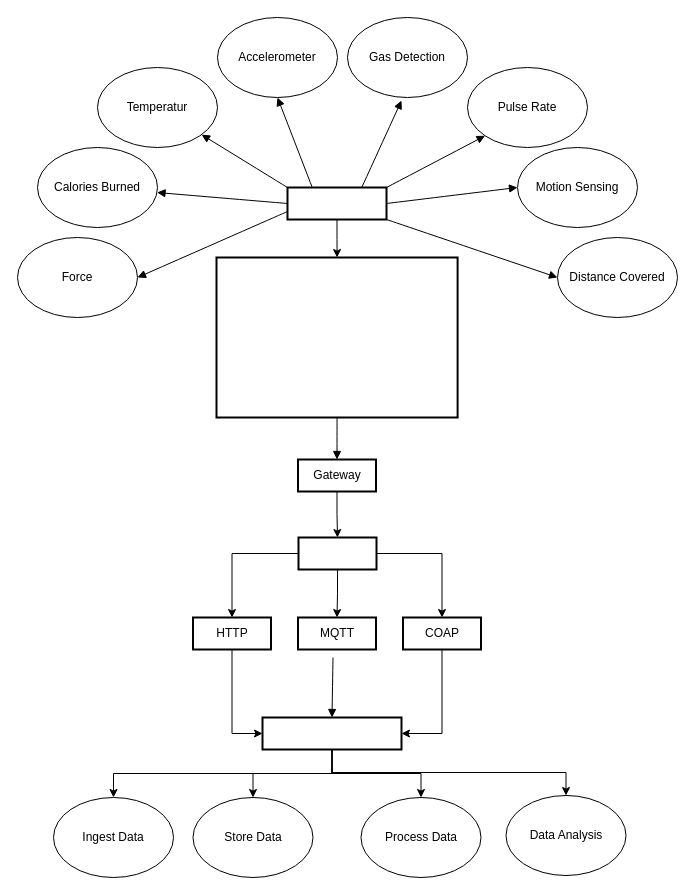
Some shapes in this 695 by 895 pixel diagram are drawn without their labels. The box of each missing label's shape, as (x1, y1, x2, y2) in pixels:
Cloud Computing: (261, 716, 402, 750)
Connectivity NFC RFID WIFI BLUETOOTH ZIGBEE CELLULAR LORAWAN NB-IOT LTE: (215, 256, 458, 418)
Internet Protokol: (297, 536, 377, 570)
IoT Devices: (286, 186, 387, 220)
